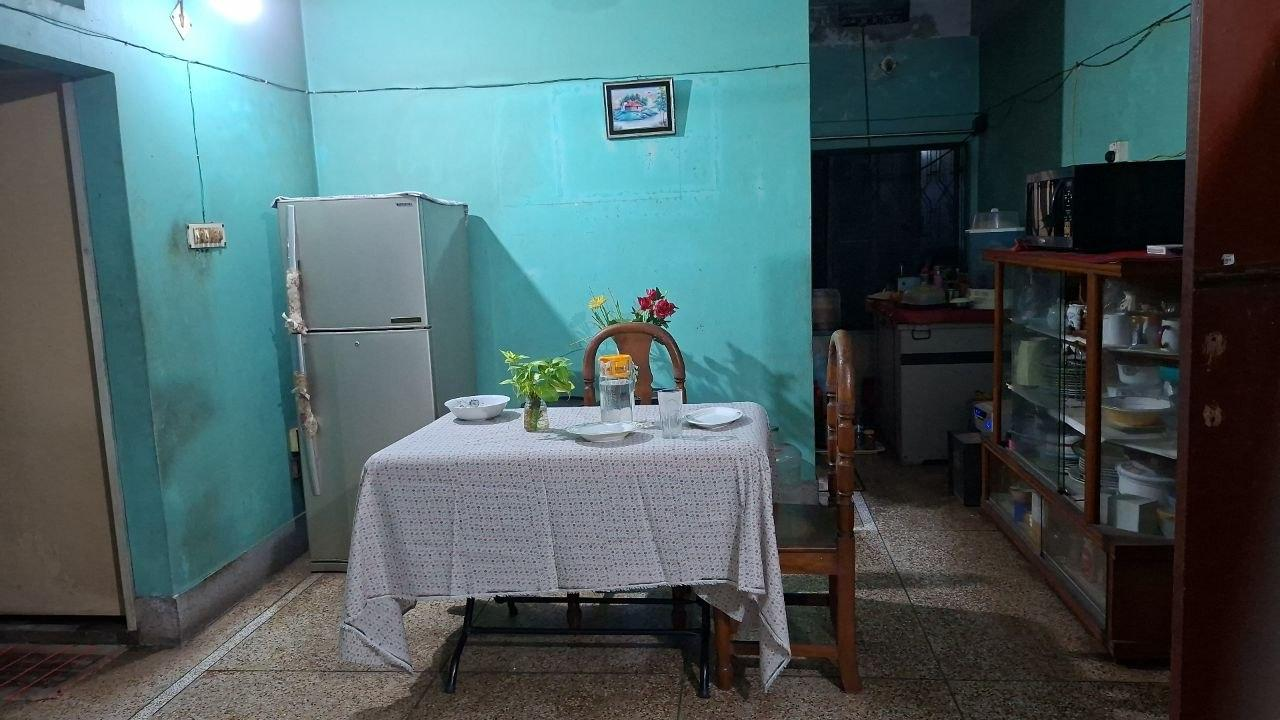Bowl: (417, 379, 513, 432)
Chair: (767, 316, 865, 704)
Door: (0, 57, 132, 637)
Glass: (649, 383, 685, 444)
Jug: (582, 331, 647, 444)
Light: (197, 0, 285, 48)
Photo: (603, 80, 681, 134)
Plant: (509, 348, 561, 440)
Plate: (664, 400, 767, 438)
